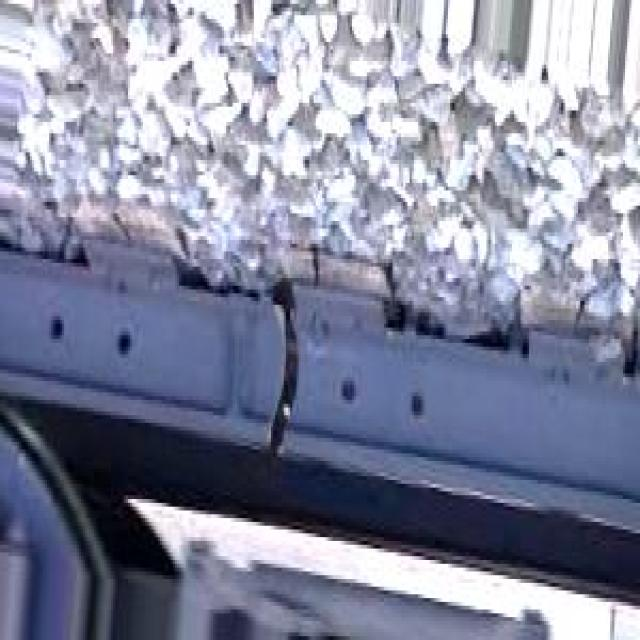crack: (238, 264, 326, 518)
